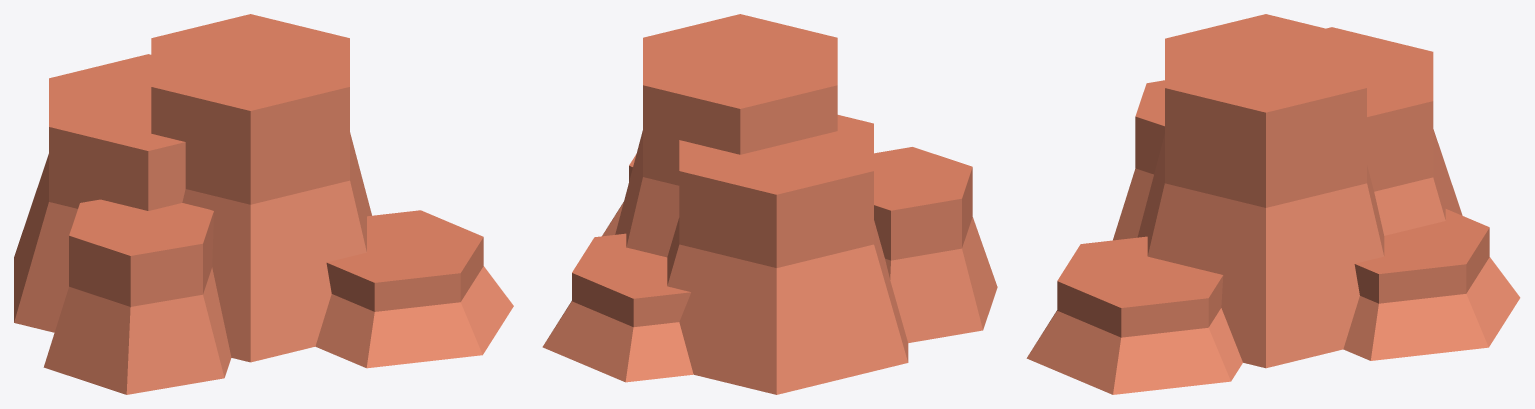
Rendered from rock_largeB.glb.
3 views of the same model, side by side, from view 1: azimuth 30°, elevation 25°; view 2: azimuth 150°, elevation 25°; view 3: azimuth 270°, elevation 25° (orthographic). The views are drawn at different scales.
Parts seen in each view (by area): view 1: rock_largeB; view 2: rock_largeB; view 3: rock_largeB.
Boxes of the visible parts, <box> form: rock_largeB: <box>14,14,513,394</box>; rock_largeB: <box>542,14,997,394</box>; rock_largeB: <box>1026,14,1520,394</box>.
Size of the model in its own units: 0.9278 by 0.5 by 0.9393.
